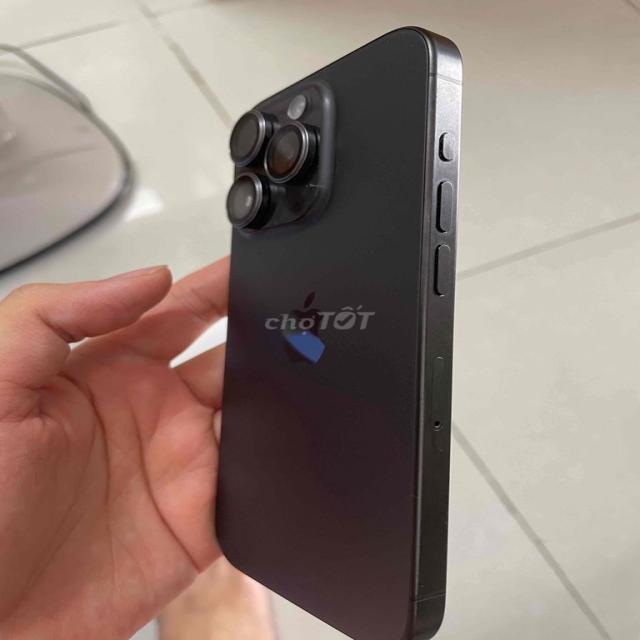gen_15: (168, 21, 479, 640)
